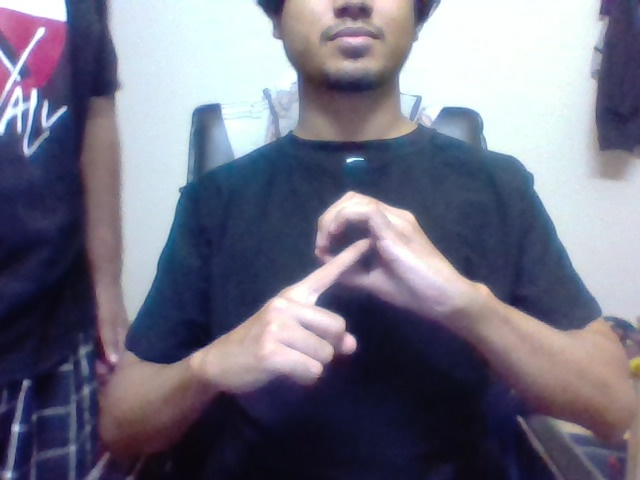Q: (319, 210, 394, 291)
